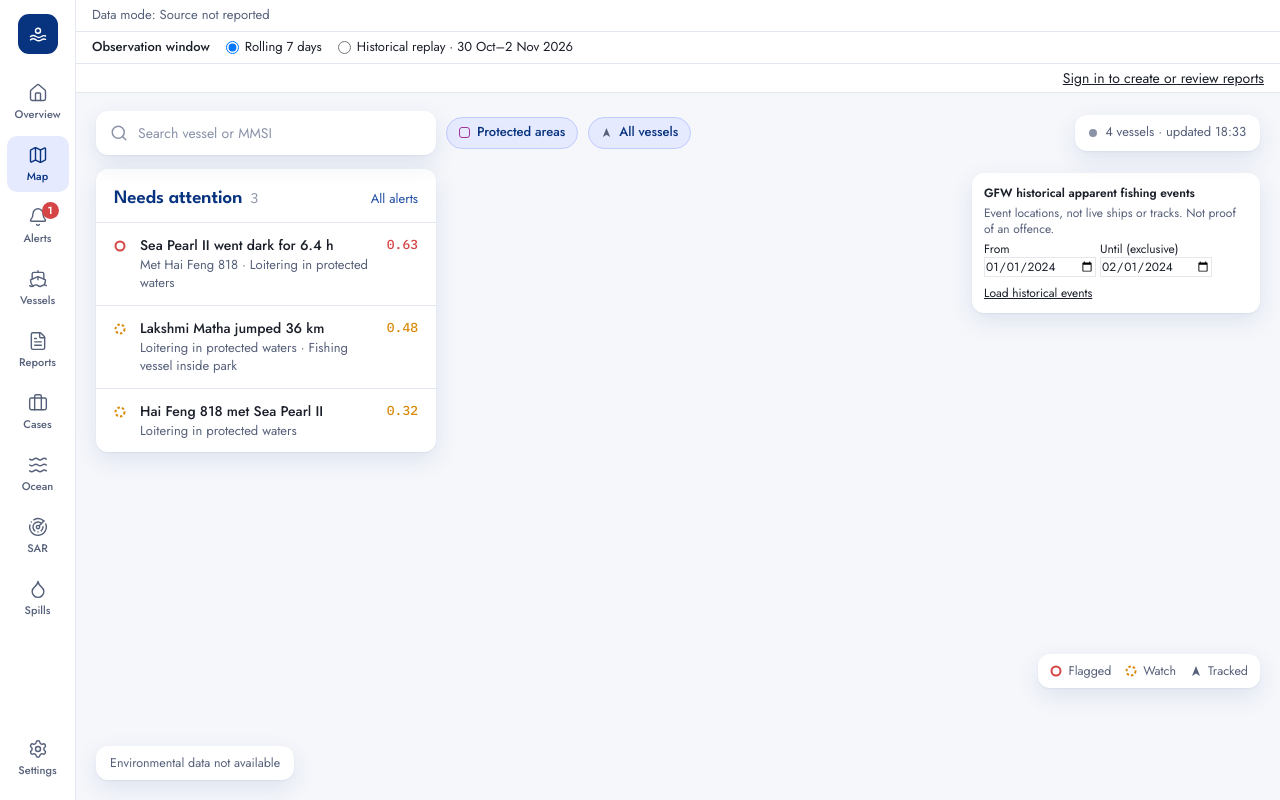
it: map page › points at dates and provider access when nothing answered the GFW request
Click the button "Load historical events": (1038, 293) left=984, top=285, right=1092, bottom=301
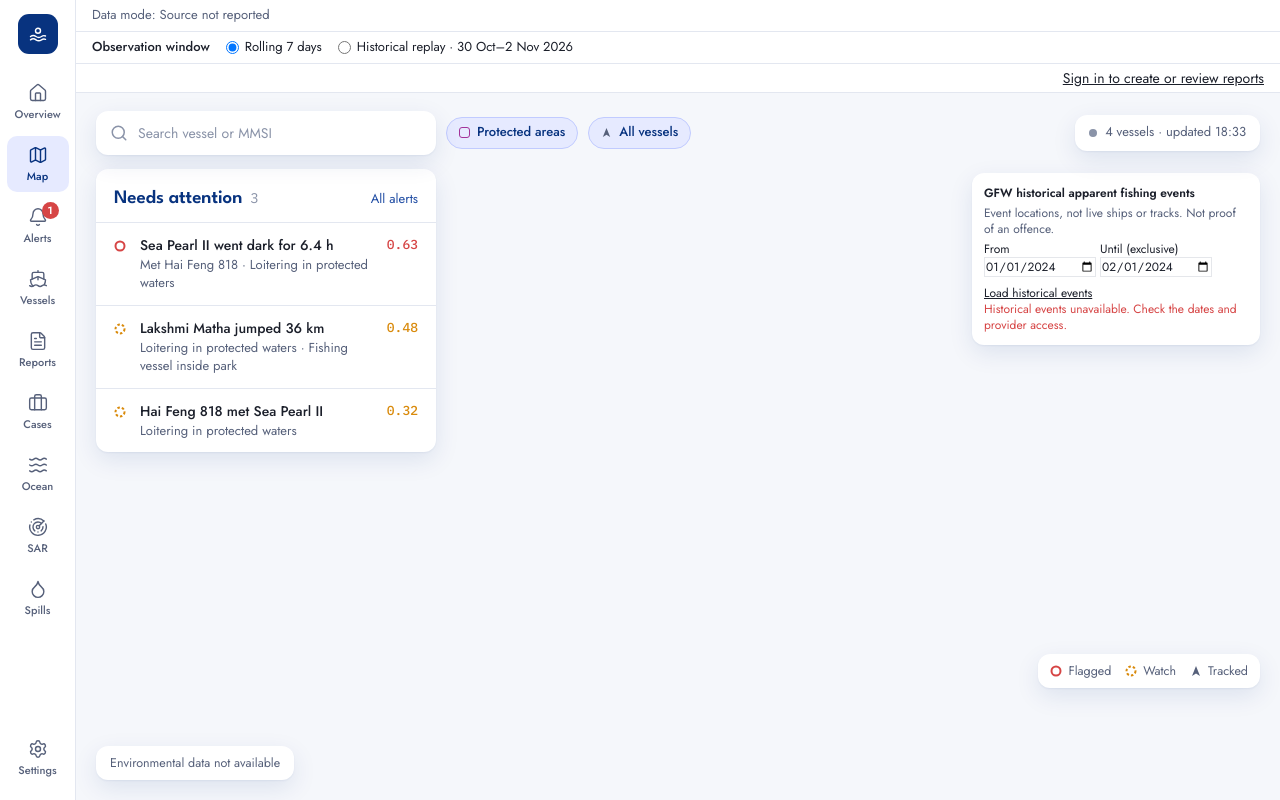
Expected: the message "Historical events unavailable. Check the dates and provider access." is shown, left=984, top=301, right=1248, bottom=333
